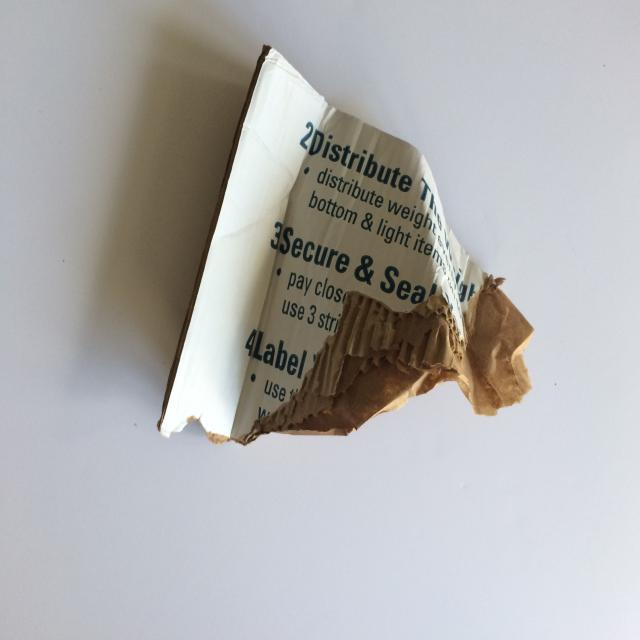cardboard: (157, 44, 534, 446)
